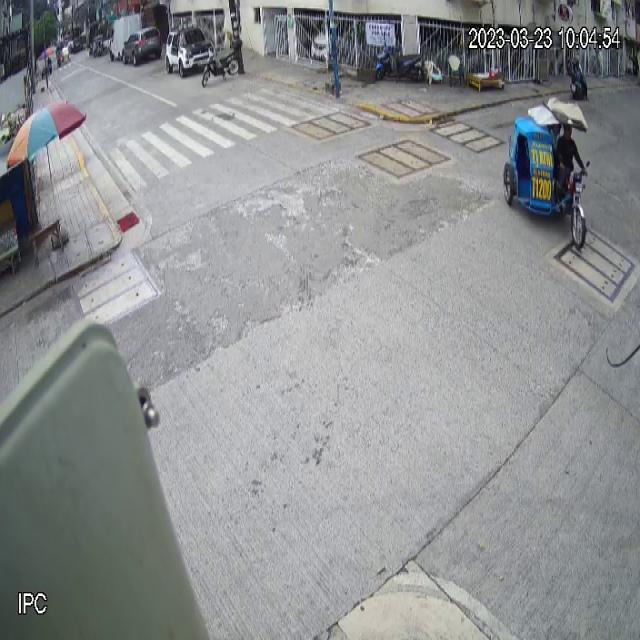Tricycle: (503, 97, 590, 251)
